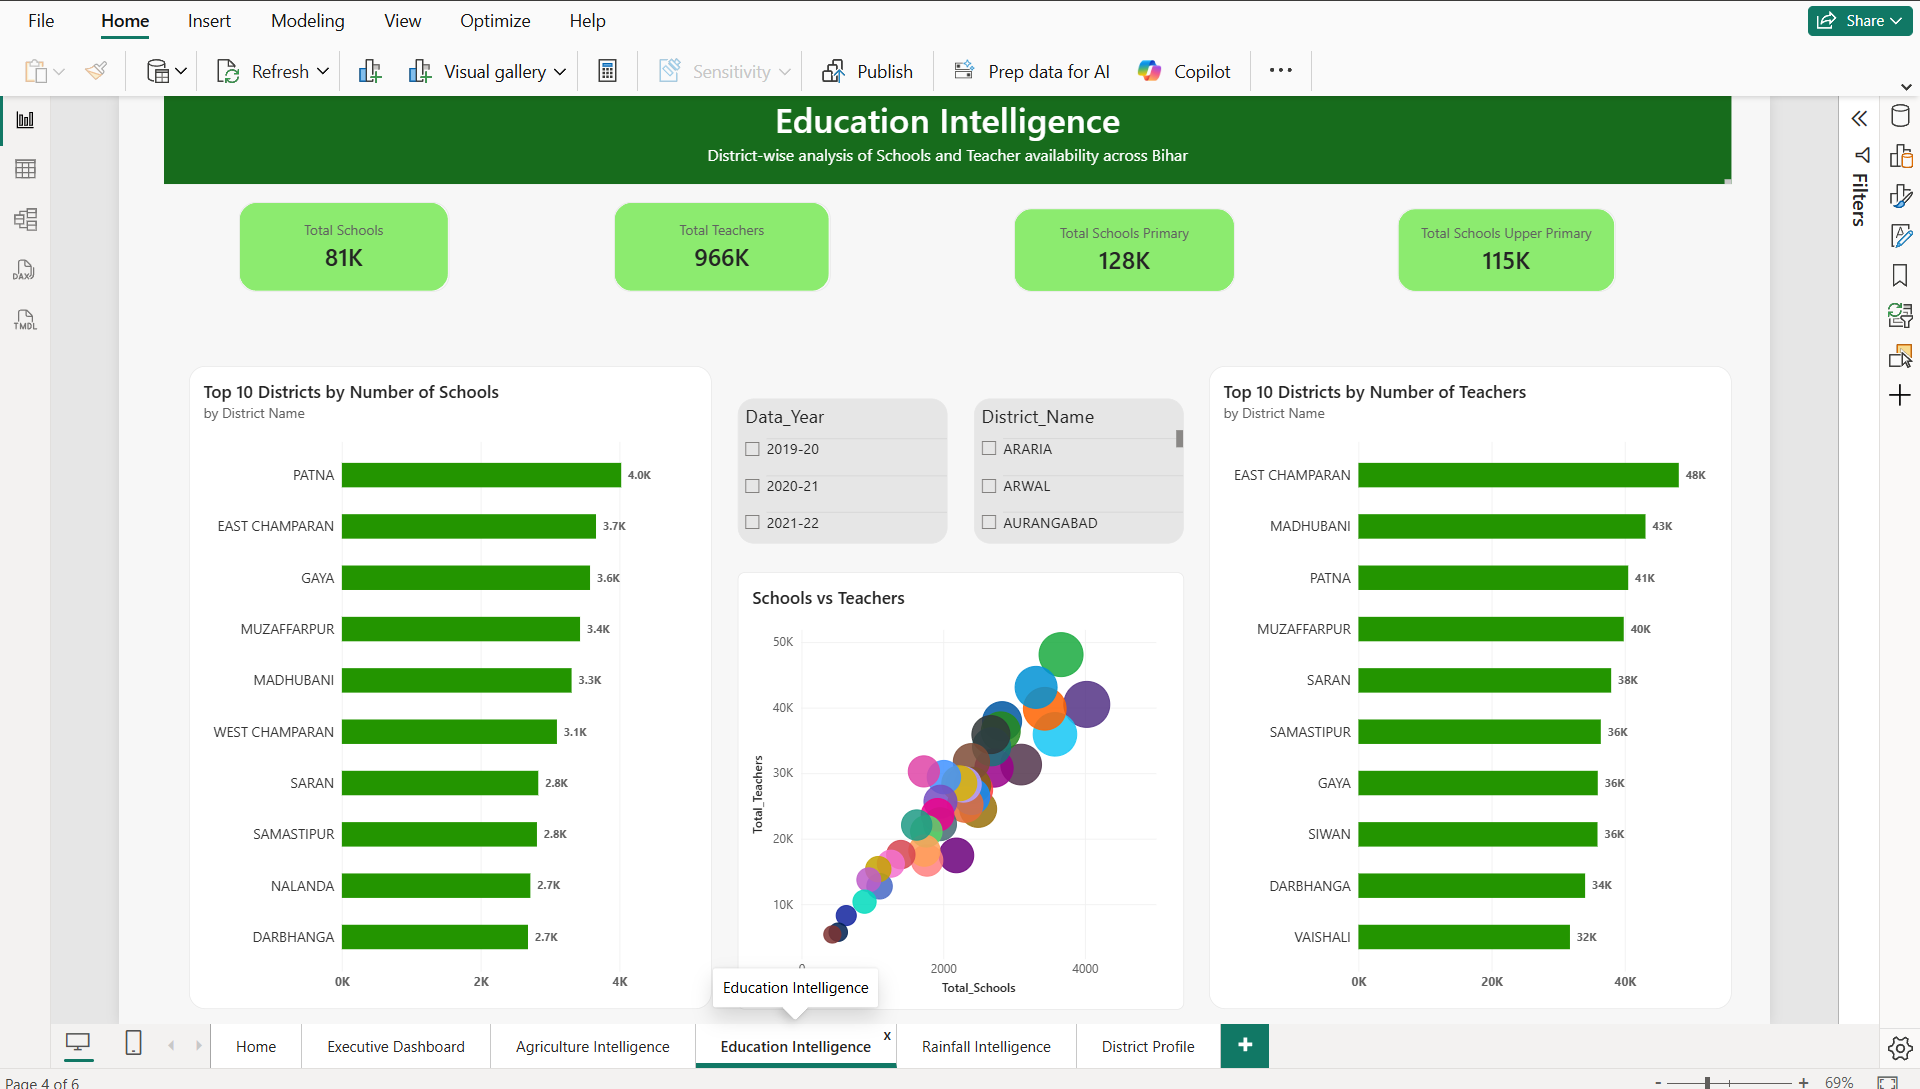

This screenshot's page, from the dashboard's own definition file:
{"tool":"powerbi","page":{"name":"Education Intelligence","canvas":[1920,1080],"ordinal":3},"visuals":[{"type":"textbox","title":"Education Intelligence","box":[52.1,0,1822.9,102.5],"z":0},{"type":"cardVisual","fields":{"Data":["All_Measures.Total_Schools"]},"box":[140.2,124,244.5,104.3],"z":1000},{"type":"cardVisual","fields":{"Data":["All_Measures.Total_Teachers"]},"box":[575.3,124,251.7,104.3],"z":2000},{"type":"cardVisual","fields":{"Data":["Sum(Fact_Education.Schools_Primary)"]},"box":[1040.9,131.2,257.1,97.1],"z":3000},{"type":"cardVisual","fields":{"Data":["Sum(Fact_Education.Schools_Upper_Primary)"]},"box":[1486.7,131.2,253.5,97.1],"z":4000},{"type":"slicer","fields":{"Values":["Fact_Education.Data_Year"]},"box":[719.1,352.4,244,169],"z":5000},{"type":"slicer","fields":{"Values":["Dim_District.District_Name"]},"box":[994.2,352.4,244,169],"z":6000},{"type":"clusteredBarChart","fields":{"Category":["Dim_District.District_Name"],"Y":["All_Measures.Total_Schools"]},"box":[80.9,314.6,607.6,747.9],"z":7000},{"type":"clusteredBarChart","fields":{"Category":["Dim_District.District_Name"],"Y":["All_Measures.Total_Teachers"]},"box":[1267.4,314.6,607.6,747.9],"z":8000},{"type":"scatterChart","title":"Schools vs Teachers","fields":{"Series":["Dim_District.District_Name"],"Size":["All_Measures.Total_Schools"],"X":["All_Measures.Total_Schools"],"Y":["All_Measures.Total_Teachers"]},"box":[719.1,553.7,519.6,508.8],"z":9000}]}

Visuals, with their boxes on the page's 1920x1080 design canvas (x1, y1, x2, y2). These are canvas units, not pixel positions in the 1920x1089 screenshot, which may show the page scaled, cropped or inside an application window:
"Education Intelligence" textbox: 52:0:1875:102
cardVisual - All_Measures.Total_Schools: 140:124:385:228
cardVisual - All_Measures.Total_Teachers: 575:124:827:228
cardVisual - Sum(Fact_Education.Schools_Primary): 1041:131:1298:228
cardVisual - Sum(Fact_Education.Schools_Upper_Primary): 1487:131:1740:228
slicer - Fact_Education.Data_Year: 719:352:963:521
slicer - Dim_District.District_Name: 994:352:1238:521
clusteredBarChart - Dim_District.District_Name x All_Measures.Total_Schools: 81:315:688:1062
clusteredBarChart - Dim_District.District_Name x All_Measures.Total_Teachers: 1267:315:1875:1062
"Schools vs Teachers" scatterChart: 719:554:1239:1062
